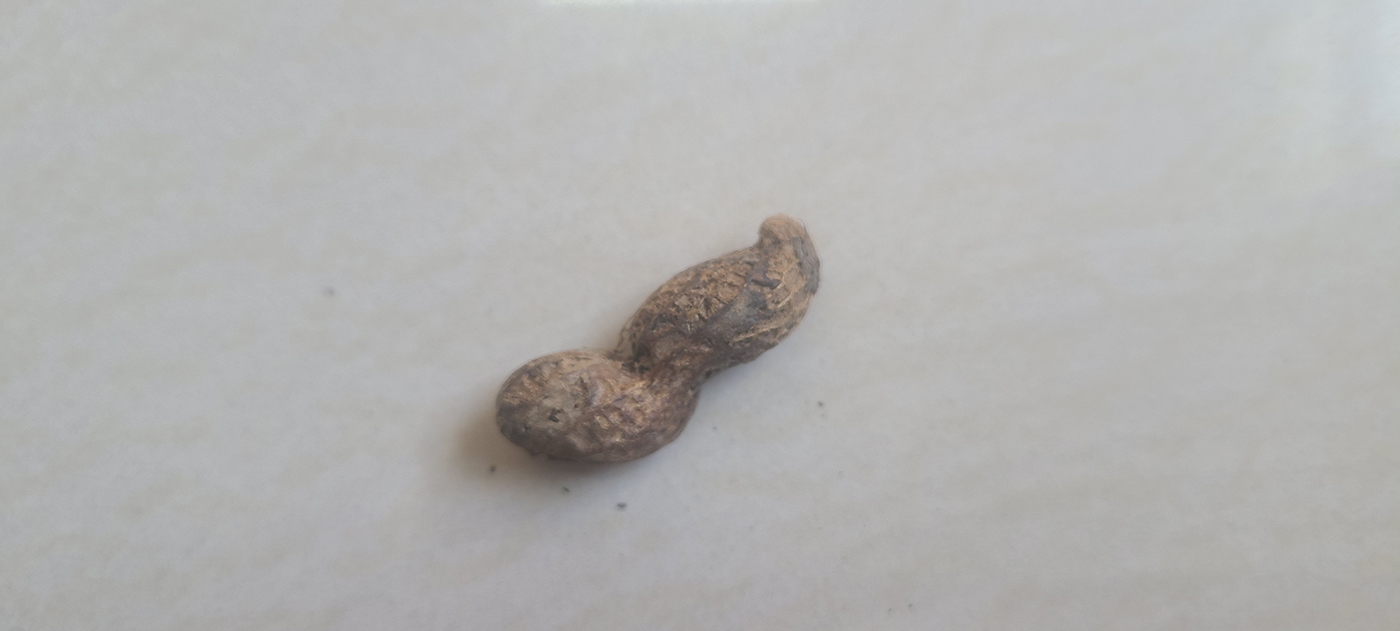l: (496, 212, 824, 469)
